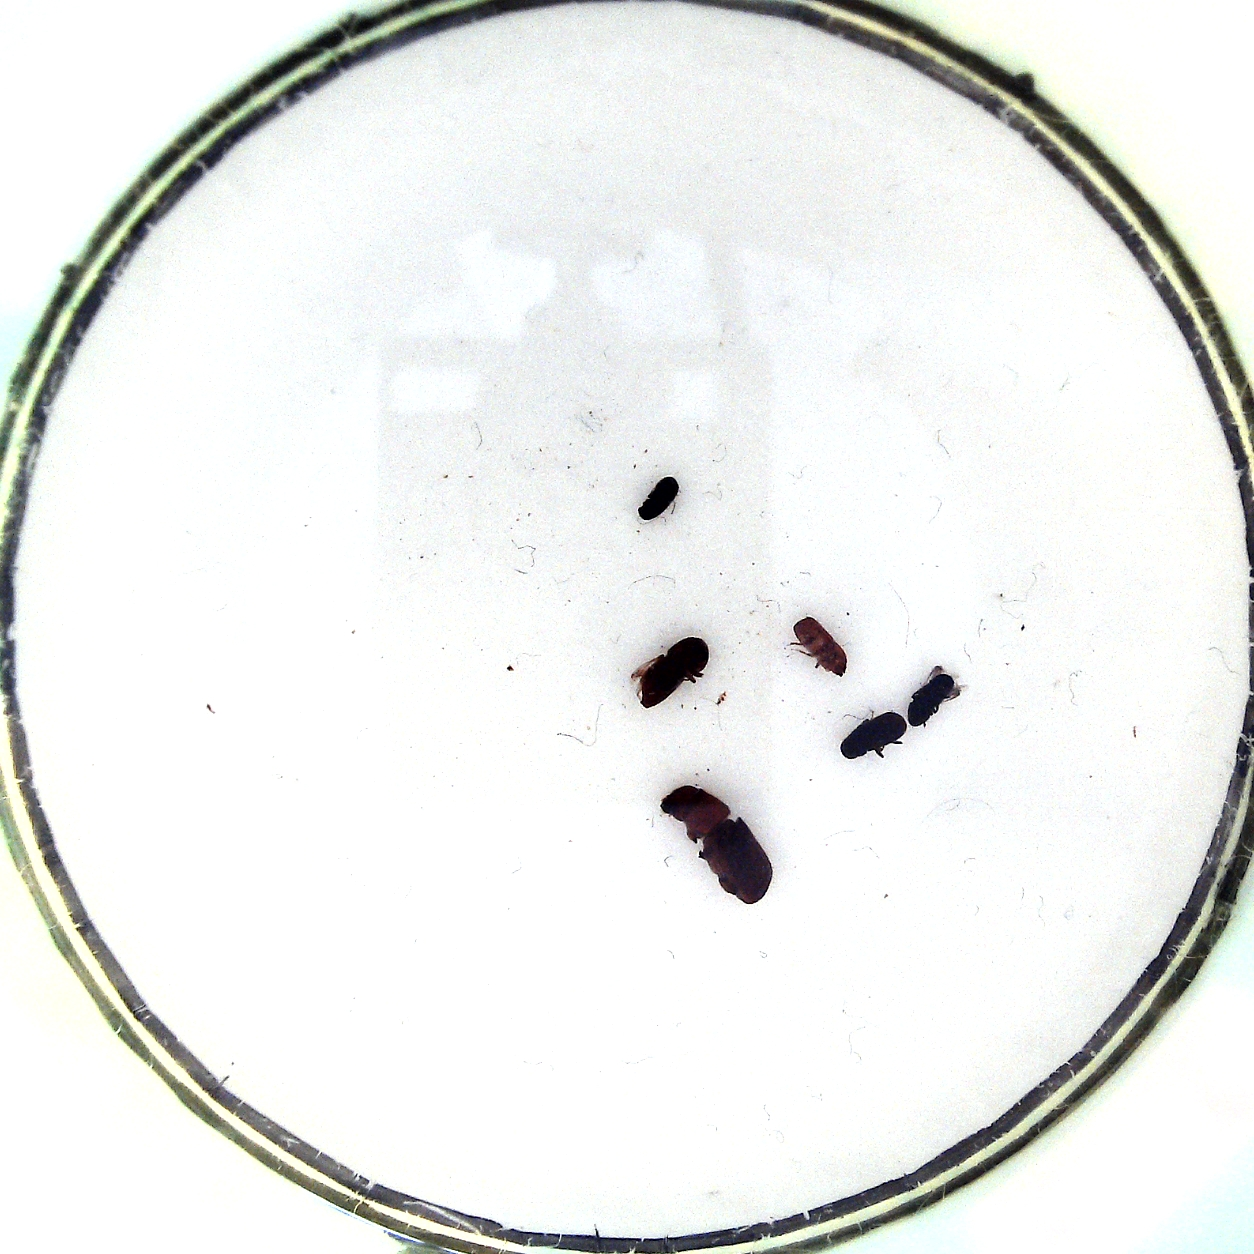Leconte: (661, 783, 782, 906)
Linnaeus: (624, 636, 717, 709)
acuminatus: (790, 614, 851, 682)
armandi: (841, 709, 911, 757)
coleoptera: (909, 661, 960, 731), (636, 470, 688, 524)
